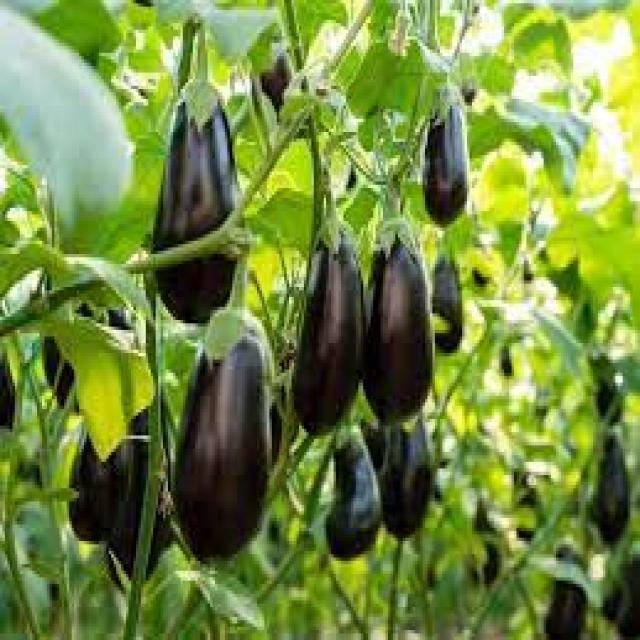eggplant: (170, 314, 270, 554), (153, 76, 245, 313), (289, 211, 358, 432), (361, 211, 432, 419), (70, 337, 134, 538), (415, 66, 470, 224), (373, 393, 428, 541), (319, 425, 378, 551)
